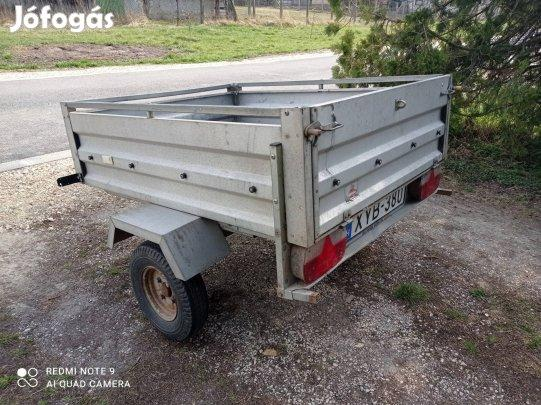trailer: (58, 73, 454, 296)
